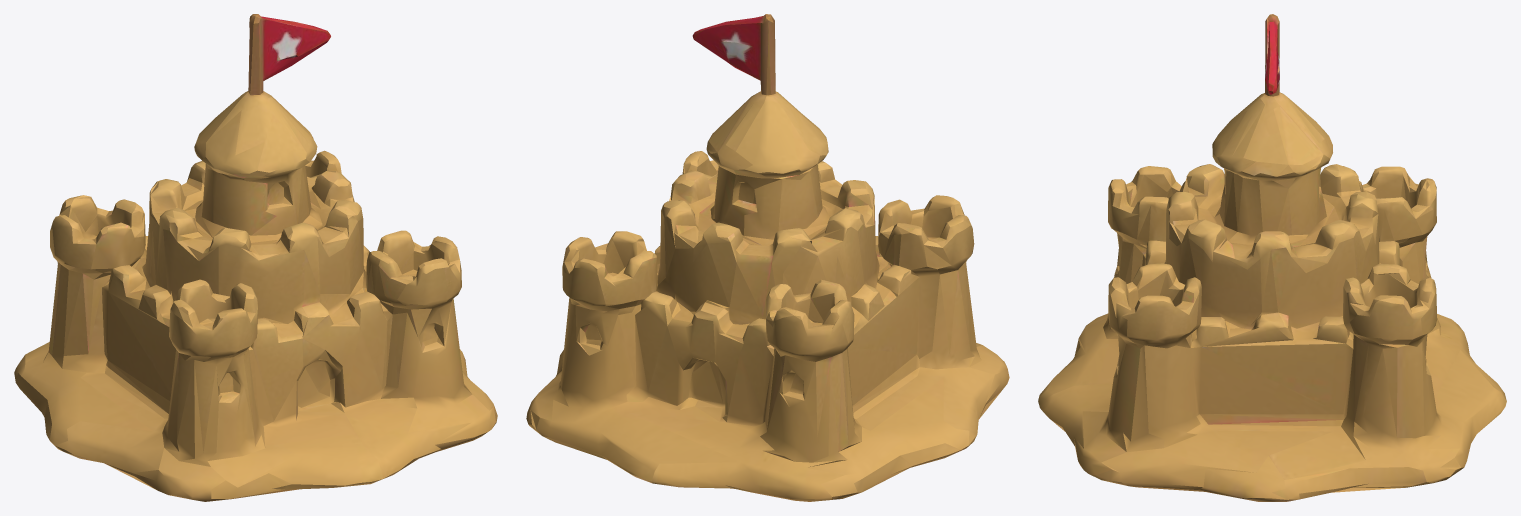
Rendered from decor_sandcastle.fbx.
3 renders of one model, left to right at view 1: azimuth 30°, elevation 25°; view 2: azimuth 150°, elevation 25°; view 3: azimuth 270°, elevation 25°, orthographic.
Visible parts, largest first — view 1: Mesh_0; view 2: Mesh_0; view 3: Mesh_0.
Part boxes in pixels (x1,y1,x2,y2): Mesh_0: (14, 14, 497, 501); Mesh_0: (526, 14, 1009, 501); Mesh_0: (1038, 14, 1506, 501).
Size of the model in its own units: 1.9 by 1.8 by 1.9.
1 material, 1 textured.
